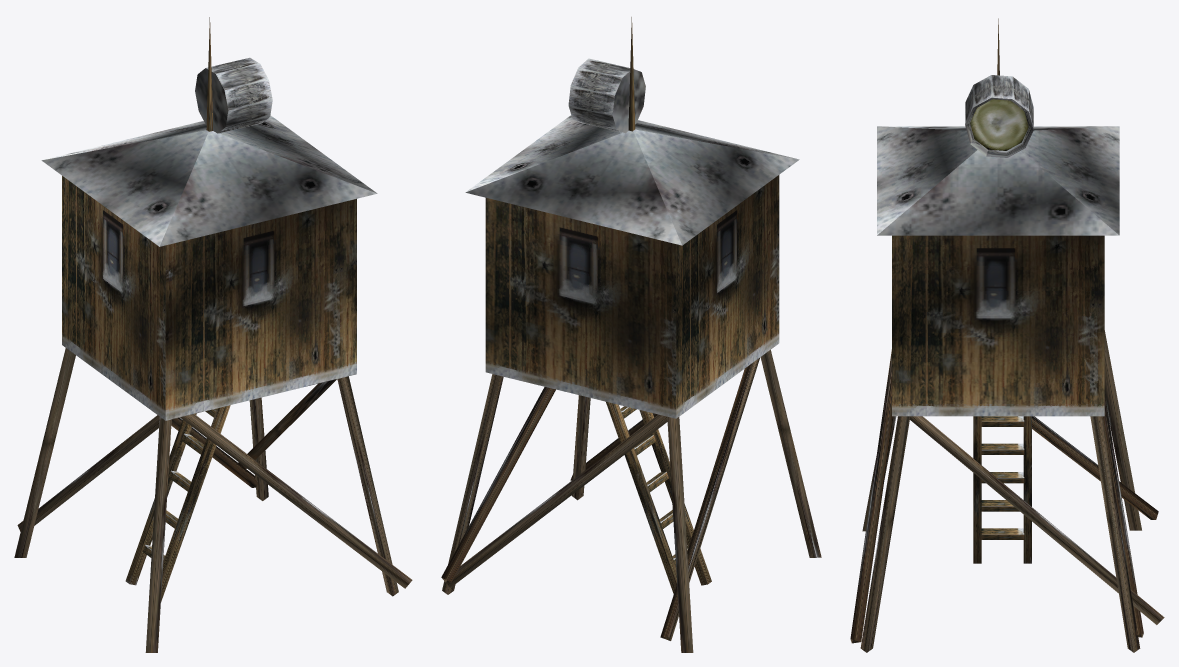
The model's file is Environment - Prop - TOWER - Damaged and Snow - PMTOWER_DS.glb.
The picture shows the model from 3 angles, left to right: view 1: azimuth 30°, elevation 25°; view 2: azimuth 150°, elevation 25°; view 3: azimuth 270°, elevation 25°; orthographic projection. The views are drawn at different scales.
Visible parts, largest first — view 1: PMTOWER_DS; view 2: PMTOWER_DS; view 3: PMTOWER_DS.
Boxes of the visible parts, left/top/right/bottom form: PMTOWER_DS: left=14, top=17, right=412, bottom=652; PMTOWER_DS: left=441, top=17, right=821, bottom=652; PMTOWER_DS: left=850, top=18, right=1164, bottom=652.
Bounding box in the file's own units: 25.53 × 53.19 × 26.09.
Materials: 1 (1 with a texture image).
